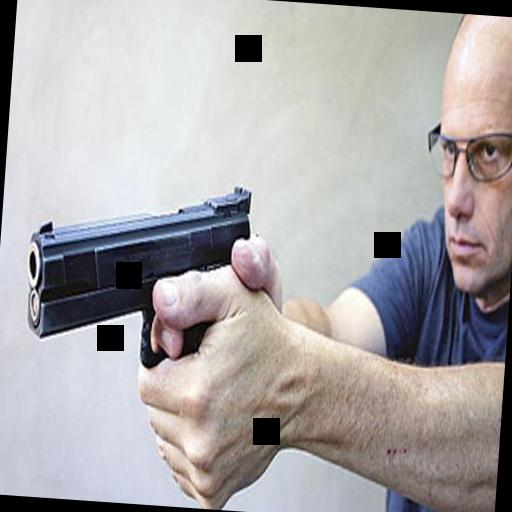Handgun: (16, 163, 256, 384)
